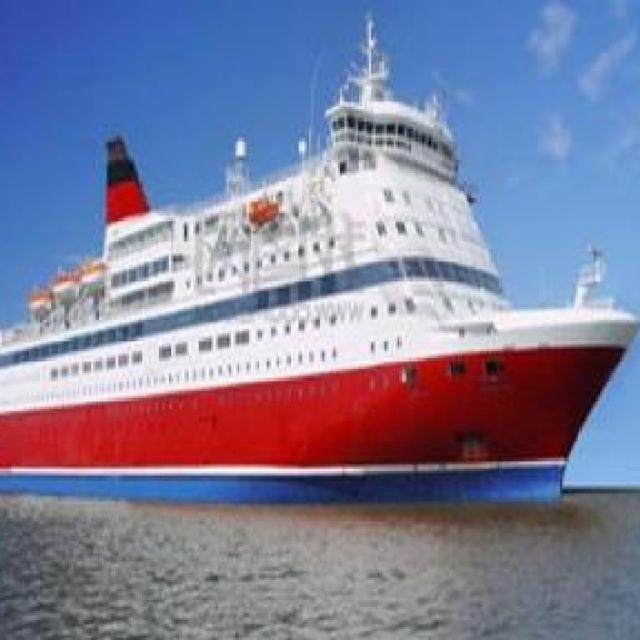passenger ship: (0, 45, 638, 522)
